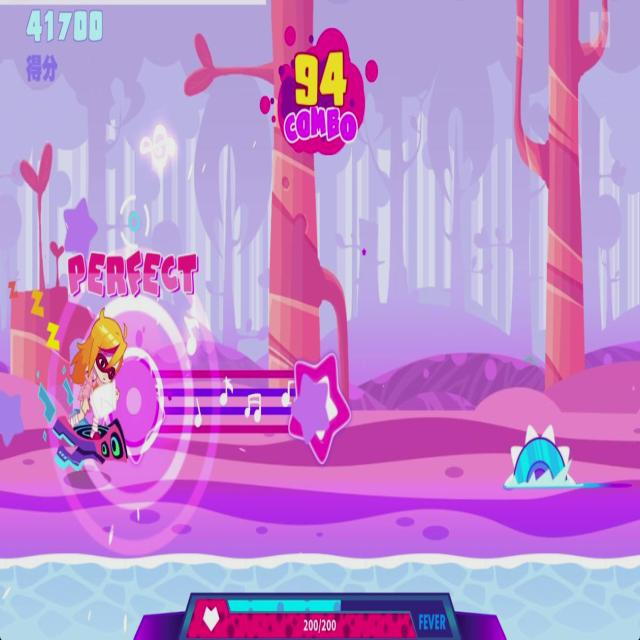ci: (500, 412, 586, 494)
hold: (128, 351, 354, 472)
